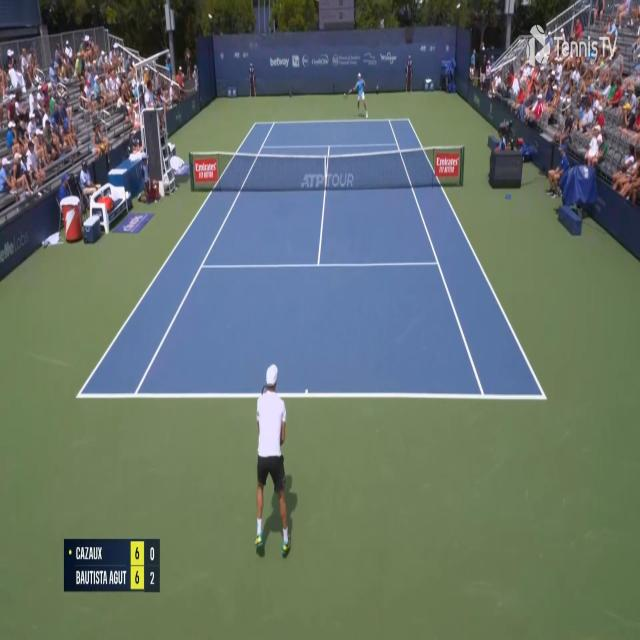tennis-player: (252, 357, 298, 560), (346, 70, 368, 119)
